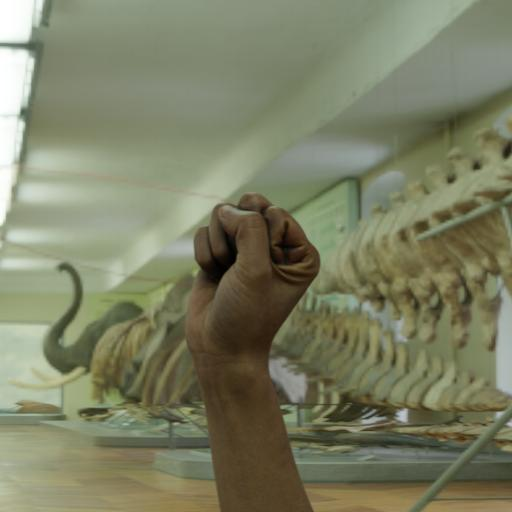S: (186, 190, 327, 365)
